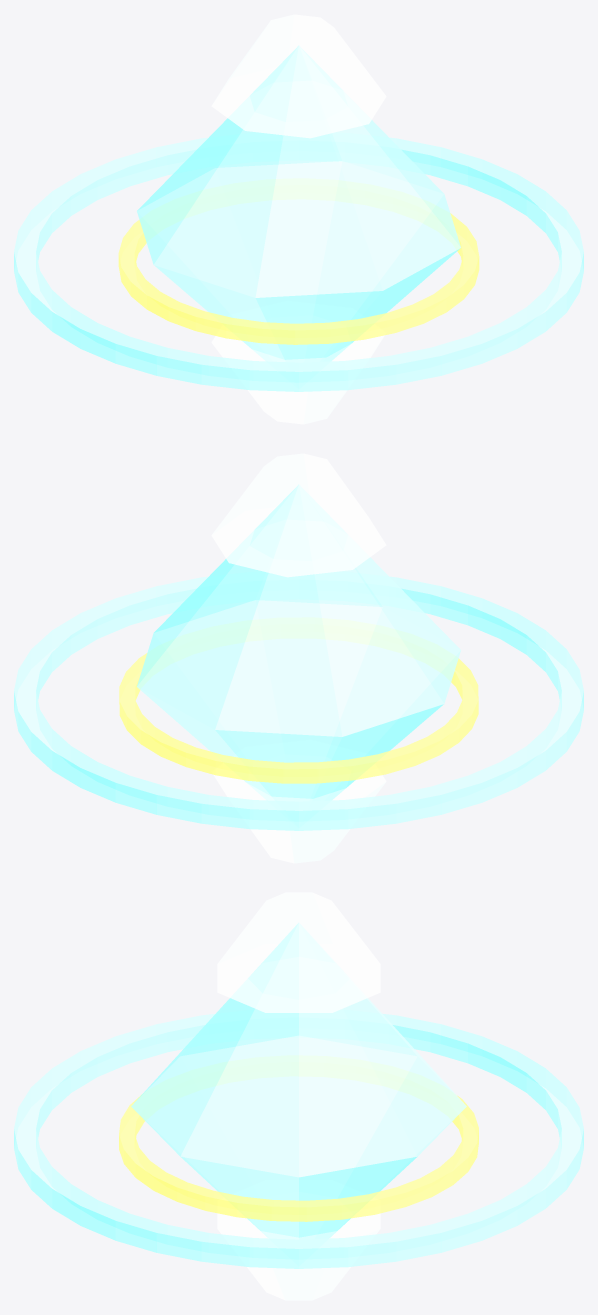
Rendered from core-shell.glb.
3 renders of one model, top to bottom at view 1: azimuth 30°, elevation 25°; view 2: azimuth 150°, elevation 25°; view 3: azimuth 270°, elevation 25°, orthographic.
Parts seen in each view (by area): view 1: CoreOctaCage, CoreOuterRing, CoreCrownTop, CoreInnerRing, CoreCrownBottom; view 2: CoreOctaCage, CoreOuterRing, CoreCrownTop, CoreInnerRing, CoreCrownBottom; view 3: CoreOctaCage, CoreOuterRing, CoreCrownTop, CoreInnerRing, CoreCrownBottom.
Part boxes in pixels (box(x1,y1,x2,y2)): CoreOctaCage: box(137, 46, 460, 362); CoreOuterRing: box(14, 137, 583, 391); CoreCrownTop: box(211, 14, 386, 138); CoreInnerRing: box(118, 213, 479, 344); CoreCrownBottom: box(211, 315, 384, 424); CoreOctaCage: box(137, 485, 460, 801); CoreOuterRing: box(14, 576, 583, 830); CoreCrownTop: box(211, 453, 386, 577); CoreInnerRing: box(119, 653, 478, 783); CoreCrownBottom: box(213, 754, 386, 863); CoreOctaCage: box(131, 923, 466, 1239); CoreOuterRing: box(14, 1013, 583, 1268); CoreCrownTop: box(217, 892, 380, 1012); CoreInnerRing: box(119, 1094, 478, 1221); CoreCrownBottom: box(217, 1191, 380, 1300).
Size of the model in its own units: 1.29 by 0.95 by 1.29.
